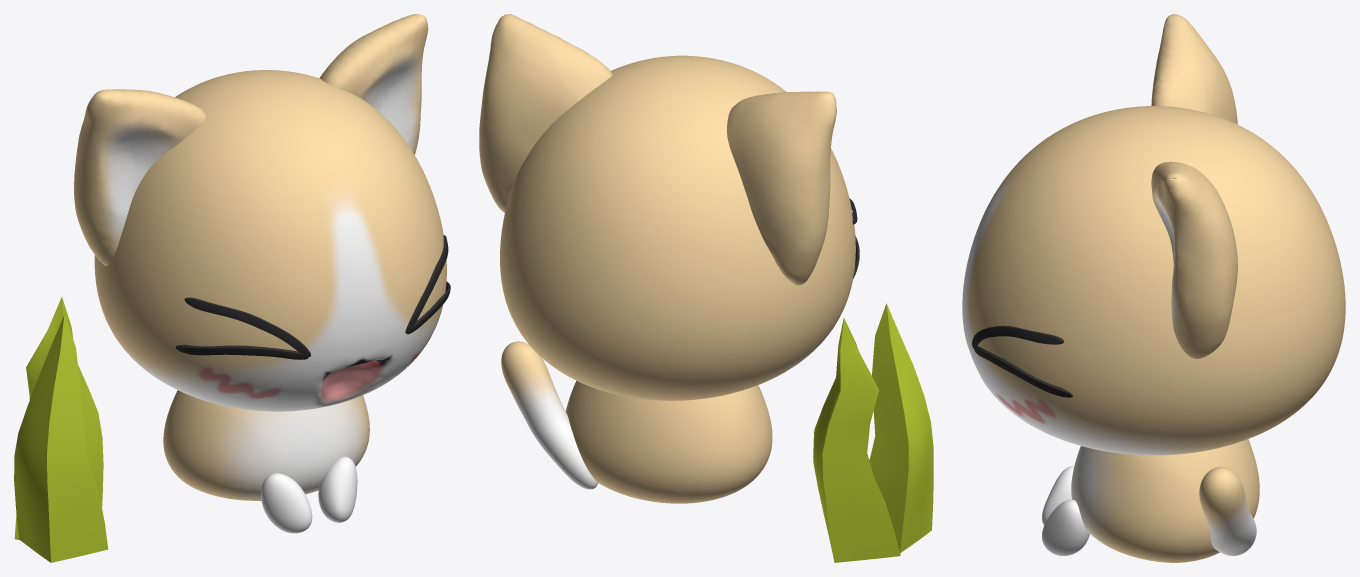
File: character-alt.glb
The picture shows the model from 3 angles, left to right: view 1: azimuth 30°, elevation 25°; view 2: azimuth 150°, elevation 25°; view 3: azimuth 270°, elevation 25°; orthographic projection. The views are drawn at different scales.
Parts seen in each view (by area): view 1: Object_11, Object_7, Object_12, Object_18, Object_3, Object_16, Object_9, Object_5; view 2: Object_11, Object_7, Object_18, Object_5, Object_3, Object_12, Object_14; view 3: Object_11, Object_12, Object_7, Object_18, Object_14, Object_16, Object_9.
Part boxes in pixels (x1=…): Object_11: x1=94, y1=70, x2=446, y2=410; Object_7: x1=74, y1=14, x2=428, y2=265; Object_12: x1=95, y1=70, x2=446, y2=411; Object_18: x1=163, y1=390, x2=369, y2=500; Object_3: x1=14, y1=315, x2=108, y2=562; Object_16: x1=261, y1=456, x2=357, y2=533; Object_9: x1=175, y1=235, x2=450, y2=359; Object_5: x1=14, y1=297, x2=103, y2=539; Object_11: x1=500, y1=55, x2=855, y2=400; Object_7: x1=479, y1=14, x2=836, y2=285; Object_18: x1=565, y1=380, x2=772, y2=503; Object_5: x1=813, y1=317, x2=900, y2=562; Object_3: x1=869, y1=303, x2=933, y2=553; Object_12: x1=500, y1=55, x2=855, y2=400; Object_14: x1=501, y1=341, x2=597, y2=489; Object_11: x1=962, y1=106, x2=1345, y2=455; Object_12: x1=962, y1=106, x2=1294, y2=453; Object_7: x1=1151, y1=14, x2=1237, y2=358; Object_18: x1=1071, y1=439, x2=1259, y2=562; Object_14: x1=1199, y1=467, x2=1256, y2=555; Object_16: x1=1042, y1=466, x2=1089, y2=555; Object_9: x1=972, y1=325, x2=1072, y2=397.
Size of the model in its own units: 3.46 by 3.51 by 2.69.
